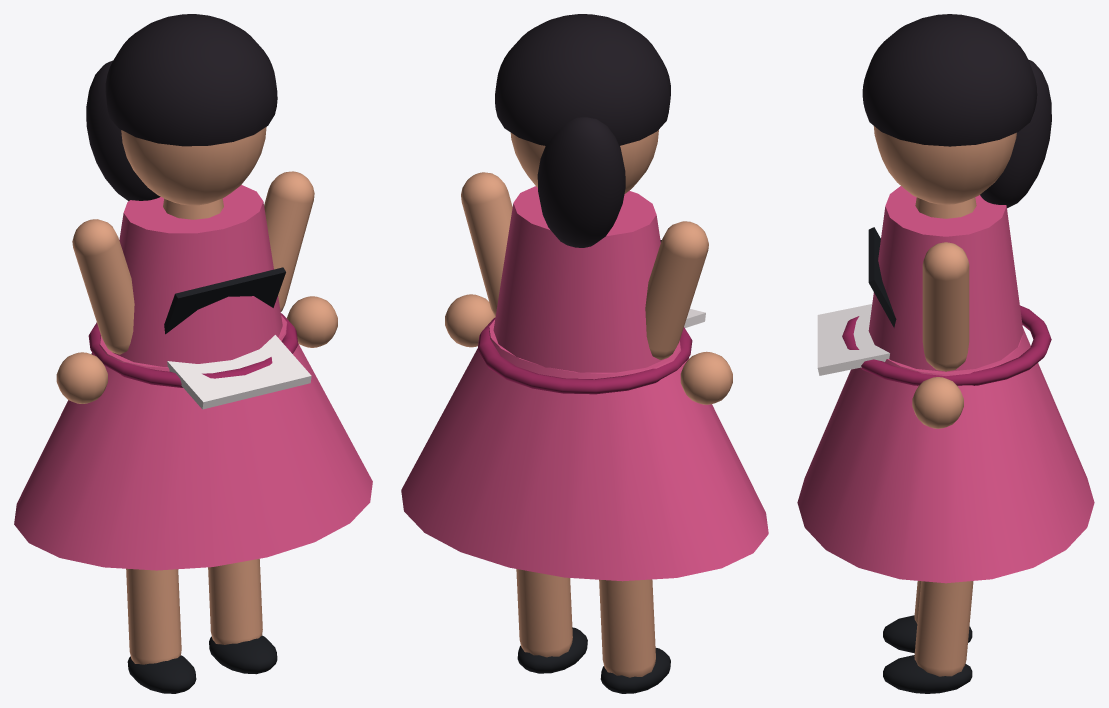
The model's file is growdash-npc-aurora.glb.
The picture shows the model from 3 angles, left to right: view 1: azimuth 30°, elevation 25°; view 2: azimuth 150°, elevation 25°; view 3: azimuth 270°, elevation 25°; orthographic projection. The views are drawn at different scales.
Visible parts, largest first — view 1: Dress skirt, Dress bodice, Hair cap, Laptop, Head, Right arm, Right leg, Left leg, Left arm, Ponytail, Dress waist band, Right hand (+4 smaller); view 2: Dress skirt, Dress bodice, Hair cap, Ponytail, Right arm, Right leg, Left arm, Left leg, Dress waist band, Head, Right hand, Left hand (+2 smaller); view 3: Dress skirt, Hair cap, Dress bodice, Head, Left arm, Left leg, Laptop, Ponytail, Dress waist band, Left hand, Left shoe, Right shoe (+1 smaller).
Boxes of the visible parts, x1,y1,x2,y2 form: Dress skirt: (14, 315, 372, 570); Dress bodice: (113, 185, 282, 366); Hair cap: (105, 14, 277, 146); Laptop: (164, 267, 311, 409); Head: (121, 127, 266, 205); Right arm: (72, 219, 134, 354); Right leg: (126, 568, 181, 664); Left leg: (208, 558, 262, 644); Left arm: (264, 171, 314, 311); Ponytail: (86, 60, 160, 201); Dress waist band: (88, 313, 298, 387); Right hand: (56, 352, 107, 403); Dress skirt: (401, 320, 768, 581); Dress bodice: (493, 186, 667, 372); Hair cap: (495, 14, 670, 145); Ponytail: (537, 117, 625, 247); Right arm: (645, 221, 708, 359); Right leg: (599, 579, 655, 677); Left arm: (461, 172, 512, 316); Left leg: (516, 569, 572, 657); Dress waist band: (477, 317, 692, 394); Head: (510, 130, 658, 194); Right hand: (680, 351, 732, 404); Left hand: (445, 294, 495, 347); Dress skirt: (797, 328, 1094, 583); Hair cap: (862, 14, 1037, 146); Dress bodice: (868, 186, 1023, 371); Head: (873, 126, 1016, 204); Left arm: (922, 242, 969, 371); Left leg: (914, 581, 973, 676); Laptop: (817, 227, 896, 375); Ponytail: (980, 59, 1051, 208); Dress waist band: (842, 305, 1051, 385); Left hand: (912, 377, 963, 428); Left shoe: (883, 655, 972, 693); Right shoe: (883, 615, 972, 653).
Bounding box in the file's own units: 1.46 × 2.73 × 1.14.
